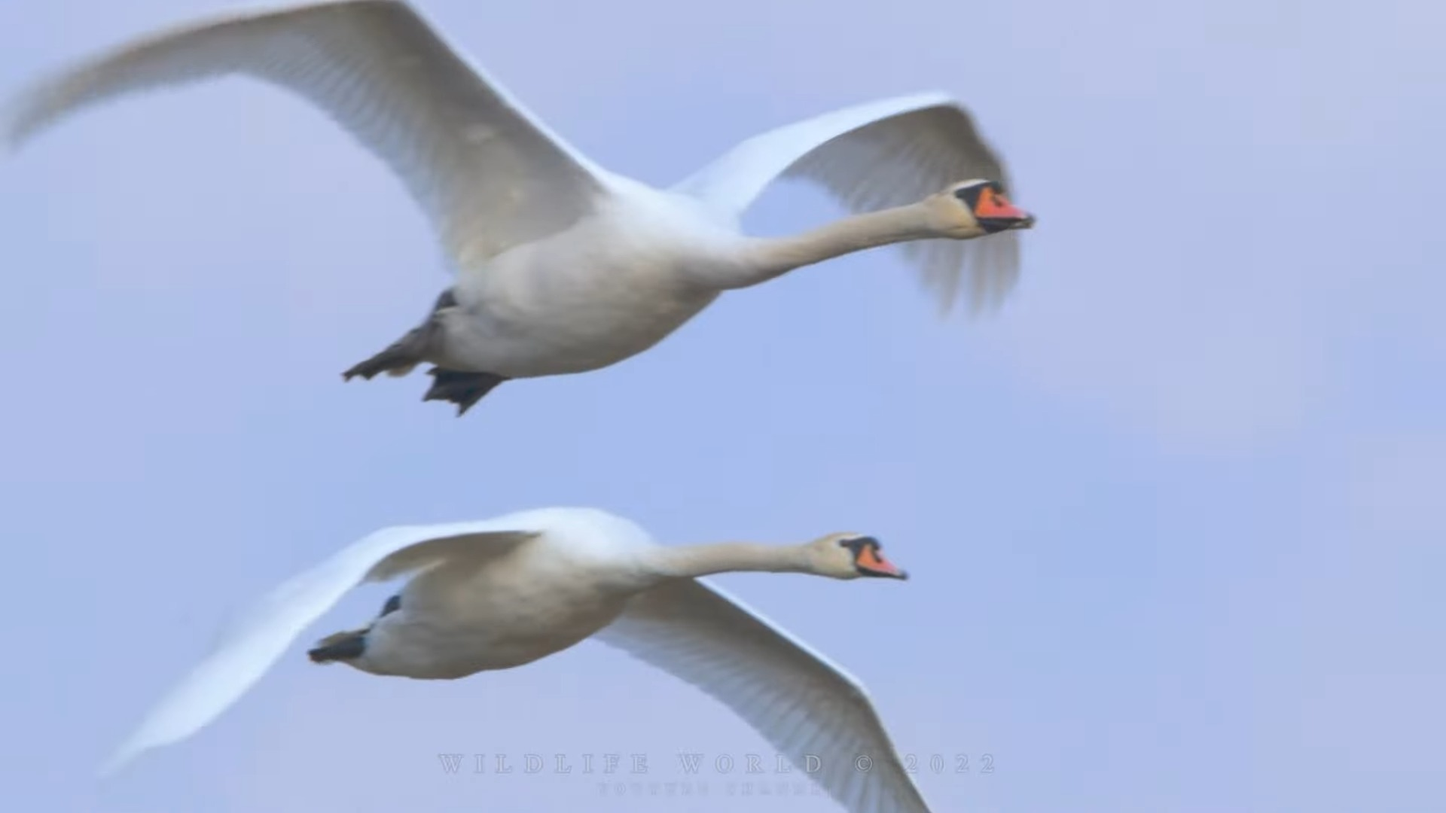not_drone: (17, 10, 1046, 413), (132, 503, 926, 813)
